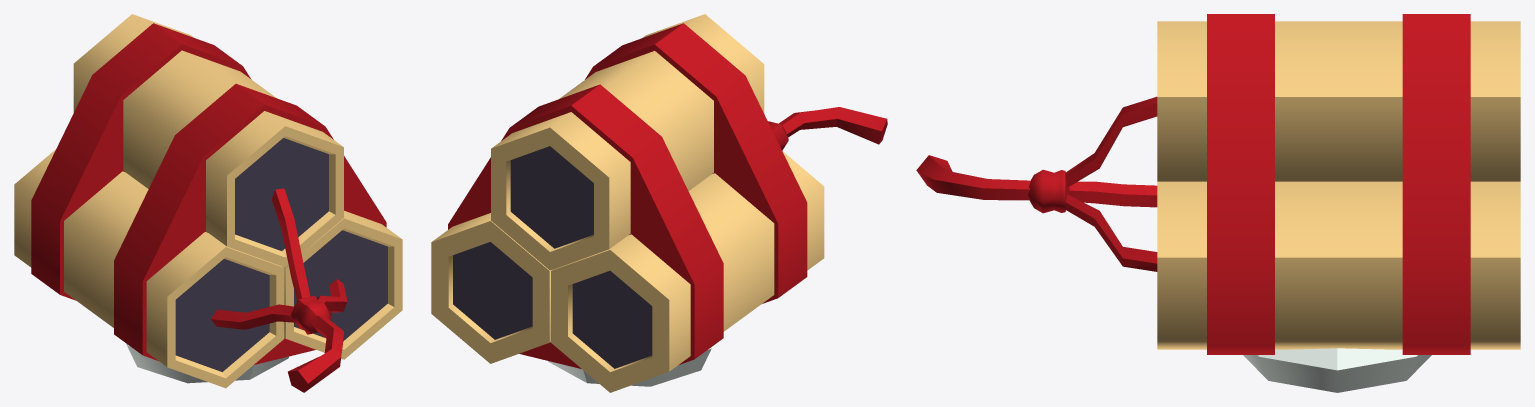
The model's file is Dynamite.fbx.
3 renders of one model, left to right at view 1: azimuth 30°, elevation 25°; view 2: azimuth 150°, elevation 25°; view 3: azimuth 270°, elevation 25°, orthographic. The views are drawn at different scales.
Visible parts, largest first — view 1: _dynamite:_dynamite_0; view 2: _dynamite:_dynamite_0; view 3: _dynamite:_dynamite_0.
Part boxes in pixels (x1=…): _dynamite:_dynamite_0: x1=14, y1=14, x2=402, y2=392; _dynamite:_dynamite_0: x1=431, y1=14, x2=887, y2=392; _dynamite:_dynamite_0: x1=916, y1=14, x2=1520, y2=392.
Size of the model in its own units: 0.6516 by 0.728 by 1.18.
